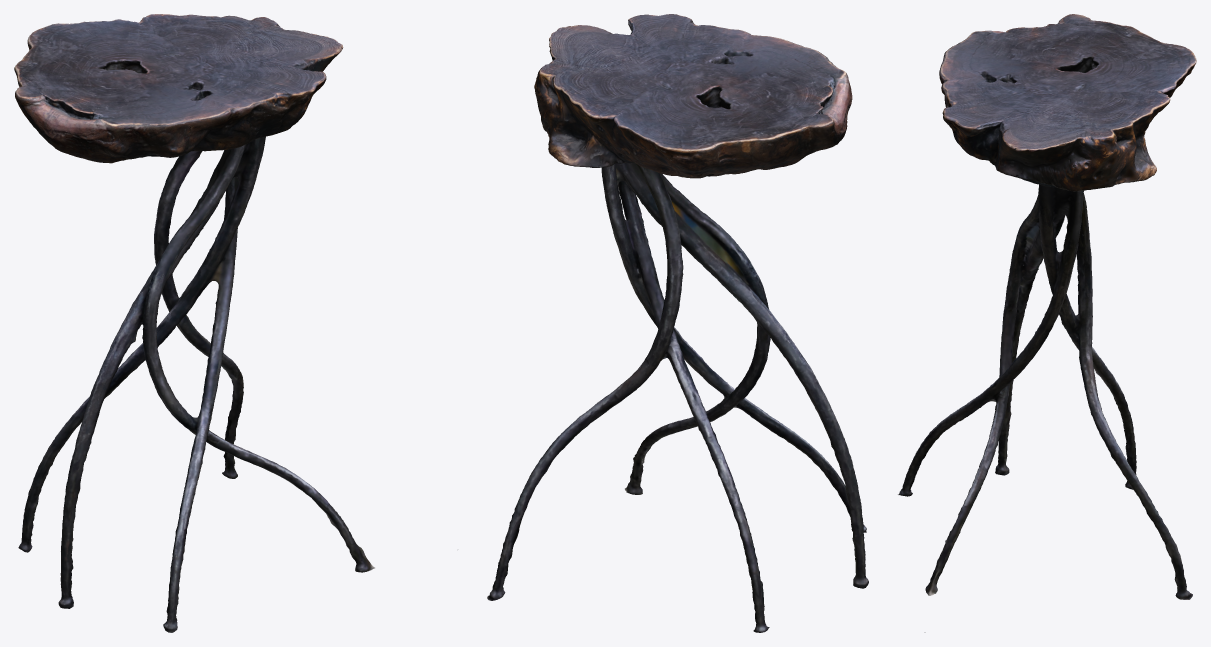
The model's file is twisty_table.glb.
The picture shows the model from 3 angles, left to right: view 1: azimuth 30°, elevation 25°; view 2: azimuth 150°, elevation 25°; view 3: azimuth 270°, elevation 25°; orthographic projection. The views are drawn at different scales.
Parts seen in each view (by area): view 1: model; view 2: model; view 3: model.
Part boxes in pixels (<box>): model: <box>14,14,374,632</box>; model: <box>487,14,868,632</box>; model: <box>898,14,1196,632</box>.
Bounding box in the file's own units: 0.4592 × 0.5954 × 0.3509.
1 material, 1 textured.
